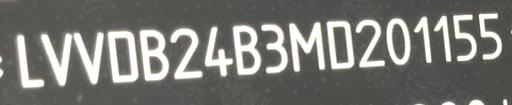letter: (100, 23, 140, 90), (165, 23, 205, 88), (10, 30, 44, 93), (40, 28, 76, 87), (137, 24, 167, 87), (201, 21, 233, 80), (352, 16, 386, 71), (74, 26, 104, 85), (383, 16, 415, 69), (325, 17, 357, 70), (290, 20, 322, 73), (230, 22, 262, 75), (258, 23, 288, 76), (446, 13, 478, 62), (476, 11, 504, 62), (412, 15, 436, 68), (431, 14, 451, 65)
